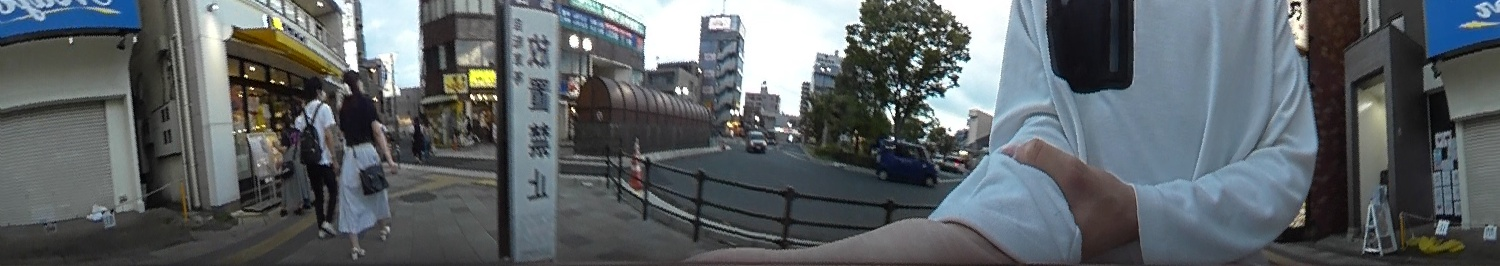difficult_person: (404, 113, 426, 156), (420, 116, 437, 156)
person: (329, 66, 398, 256), (287, 76, 344, 247), (276, 122, 312, 219)
